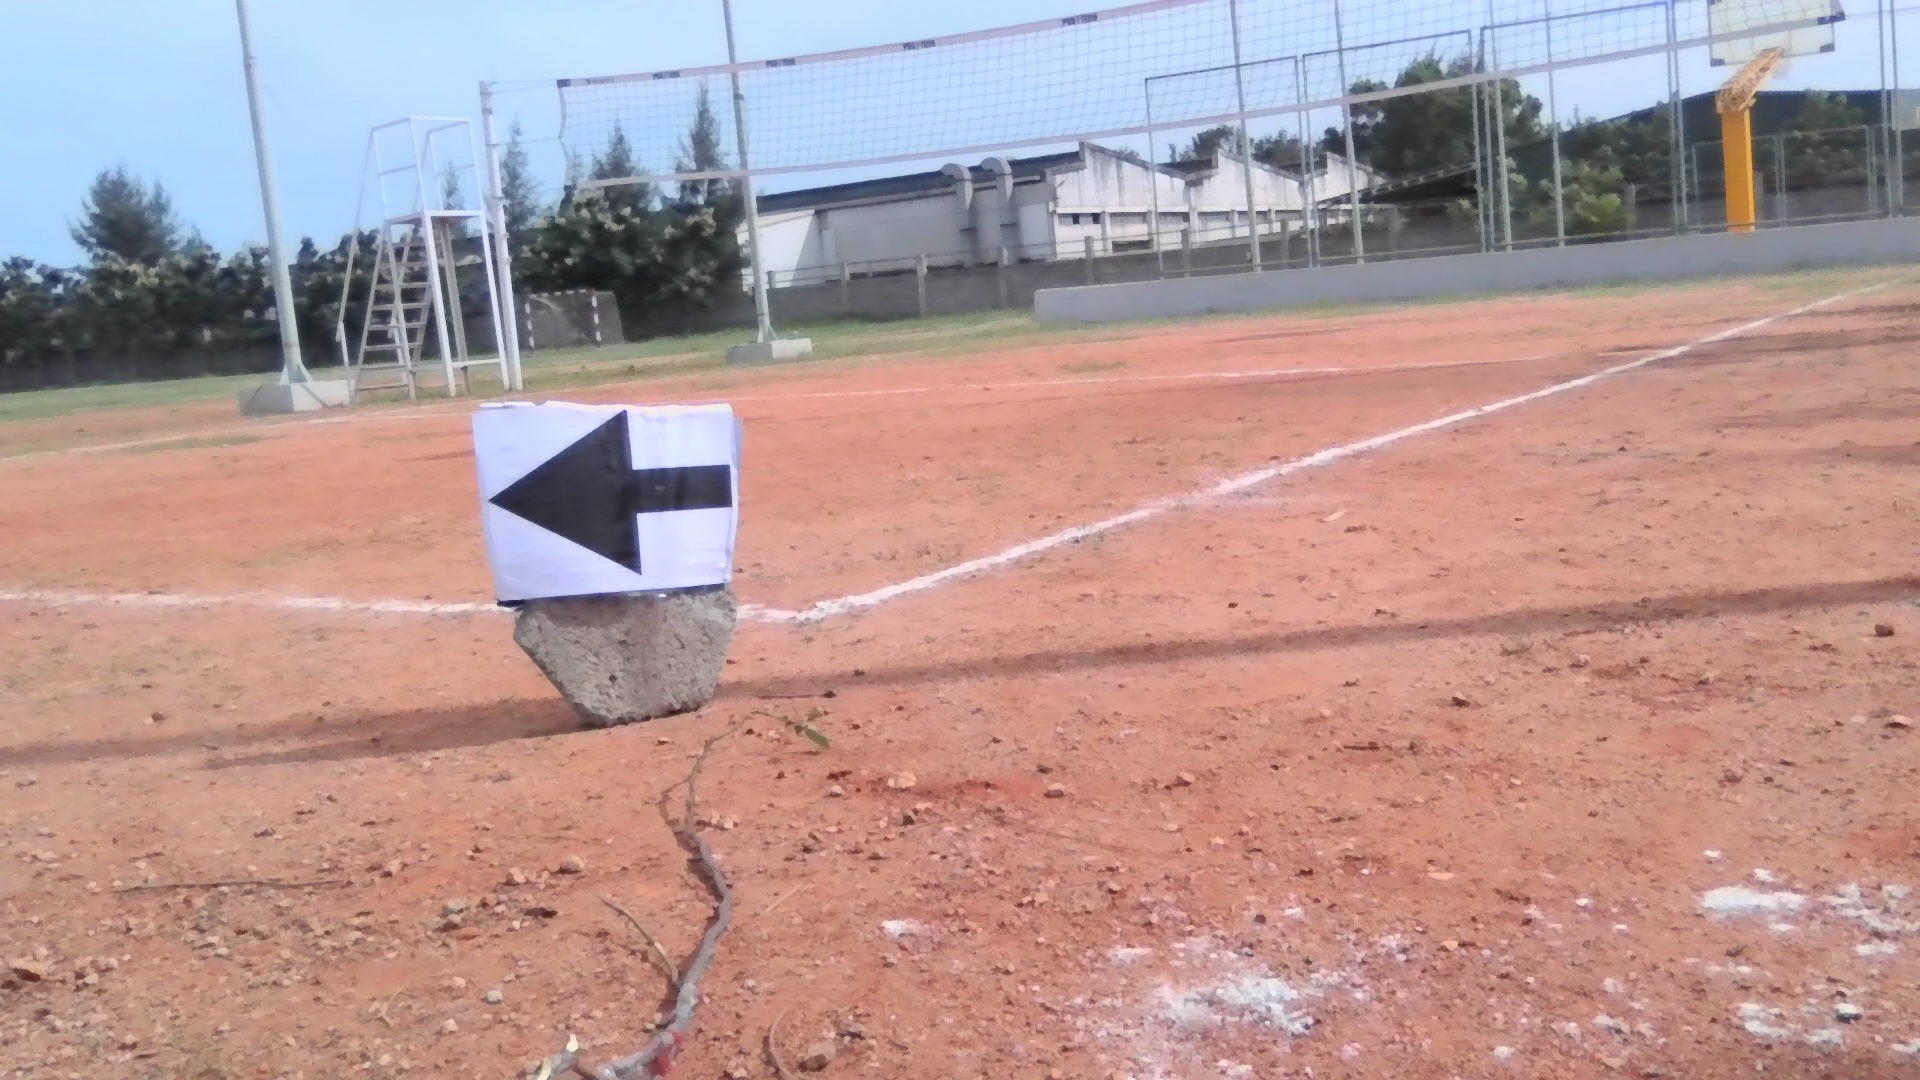leftDir: (477, 411, 744, 593)
